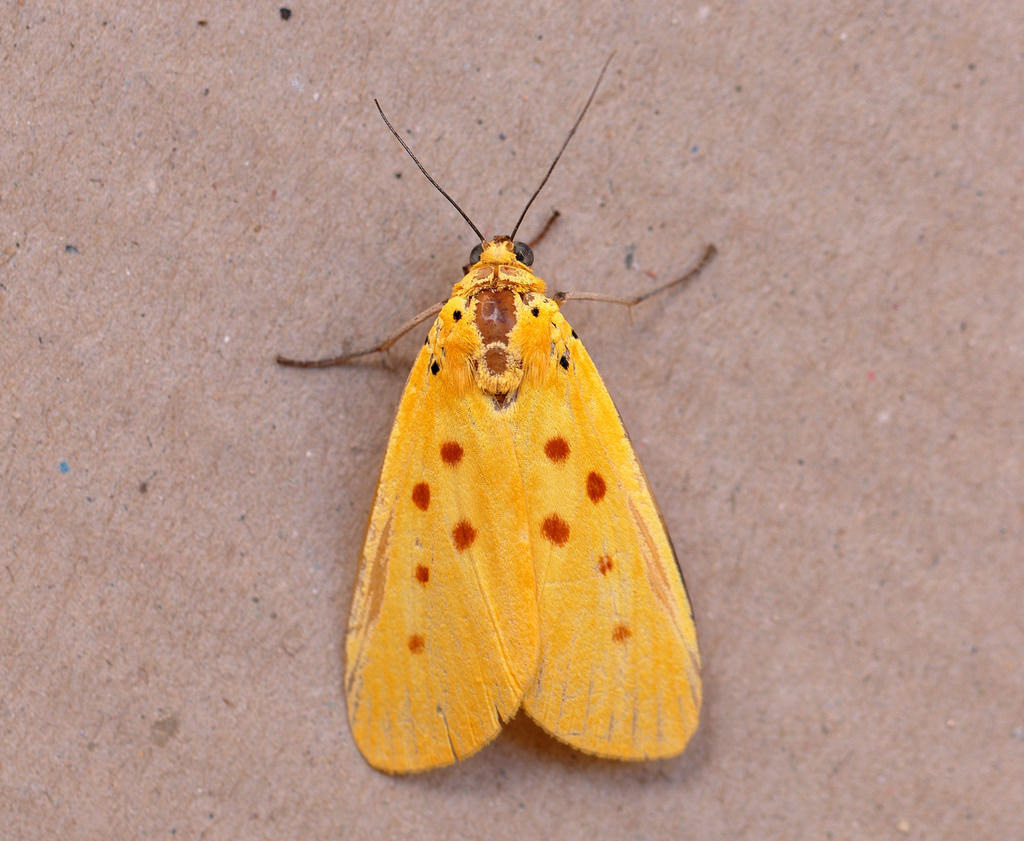Agape chloropyga: (274, 54, 730, 788)
moth: (272, 52, 728, 786)
